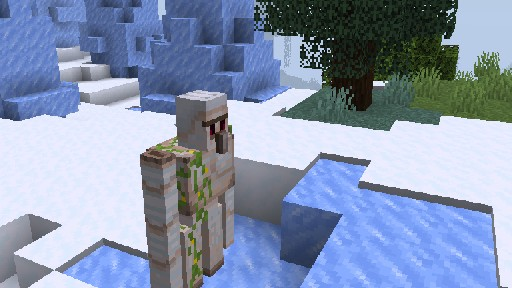iron_golem: (139, 89, 235, 288)
